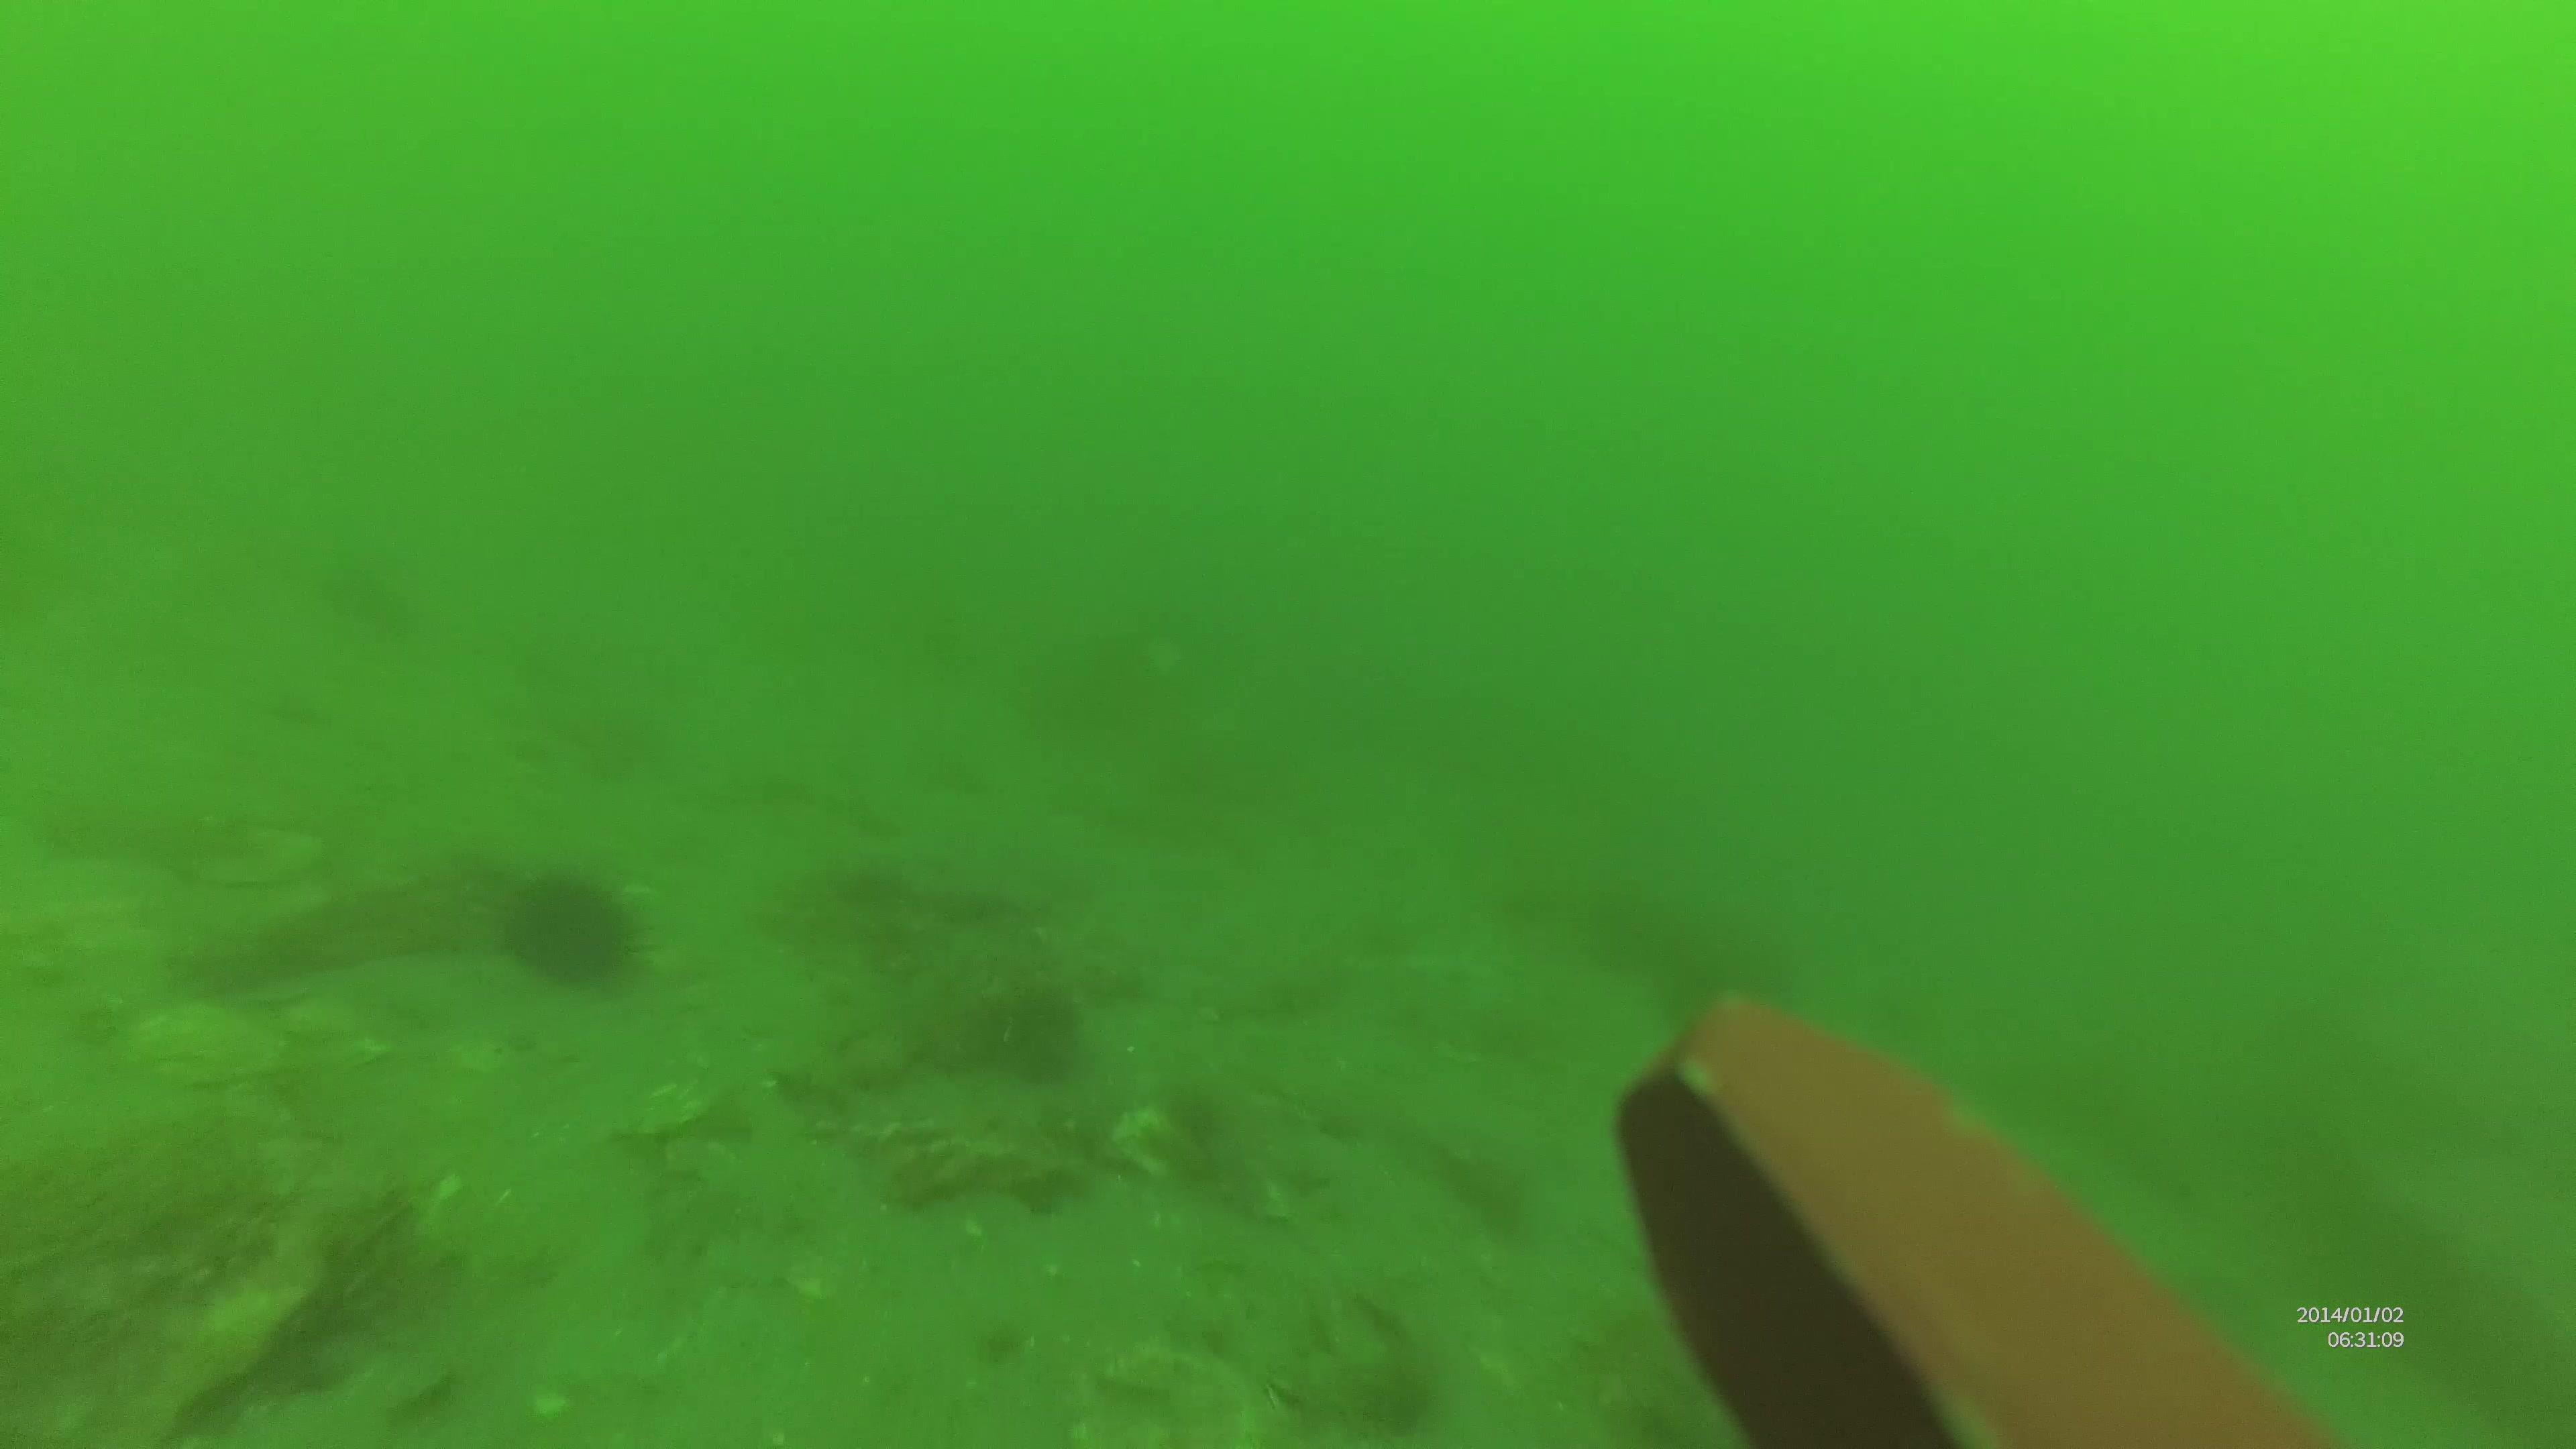echinus: (502, 874, 639, 996)
